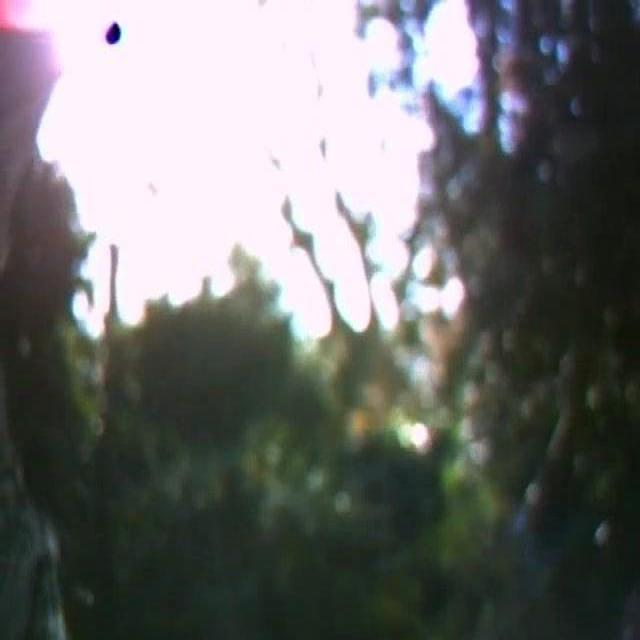other: (34, 1, 466, 353)
